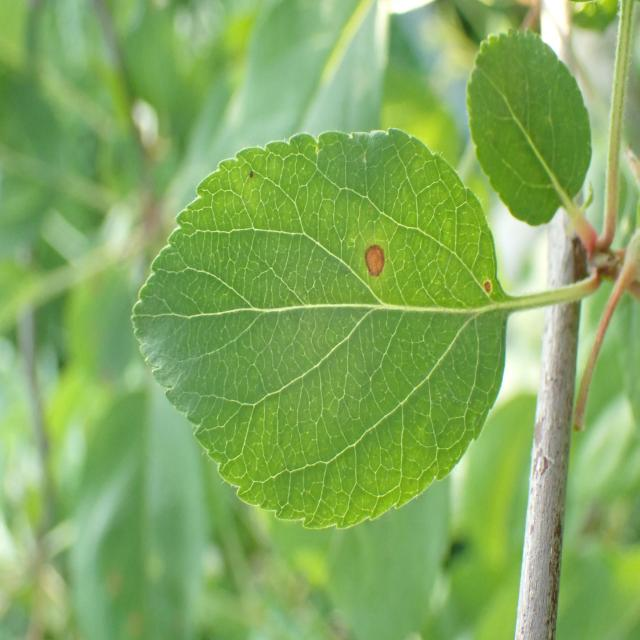Black Rot: (344, 232, 390, 304), (465, 276, 501, 313)
